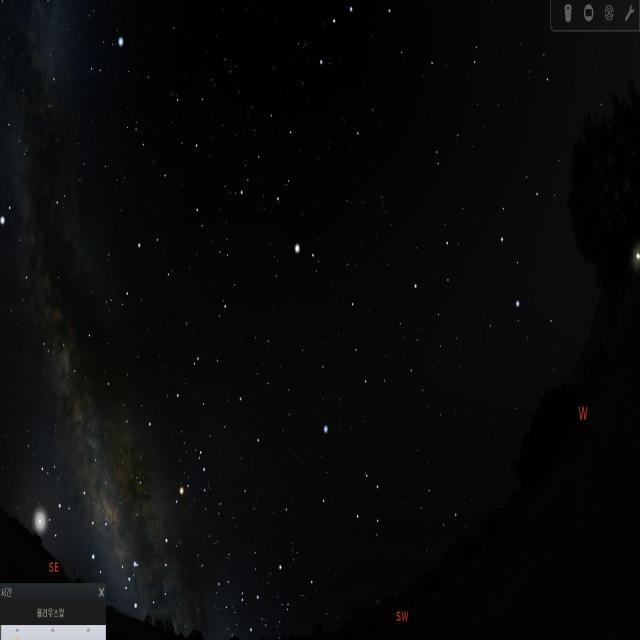bootes: (244, 121, 326, 284)
leo: (391, 150, 543, 326)
lyra: (88, 32, 128, 86)
moon: (12, 496, 58, 552)
scorpius: (119, 430, 218, 620)
